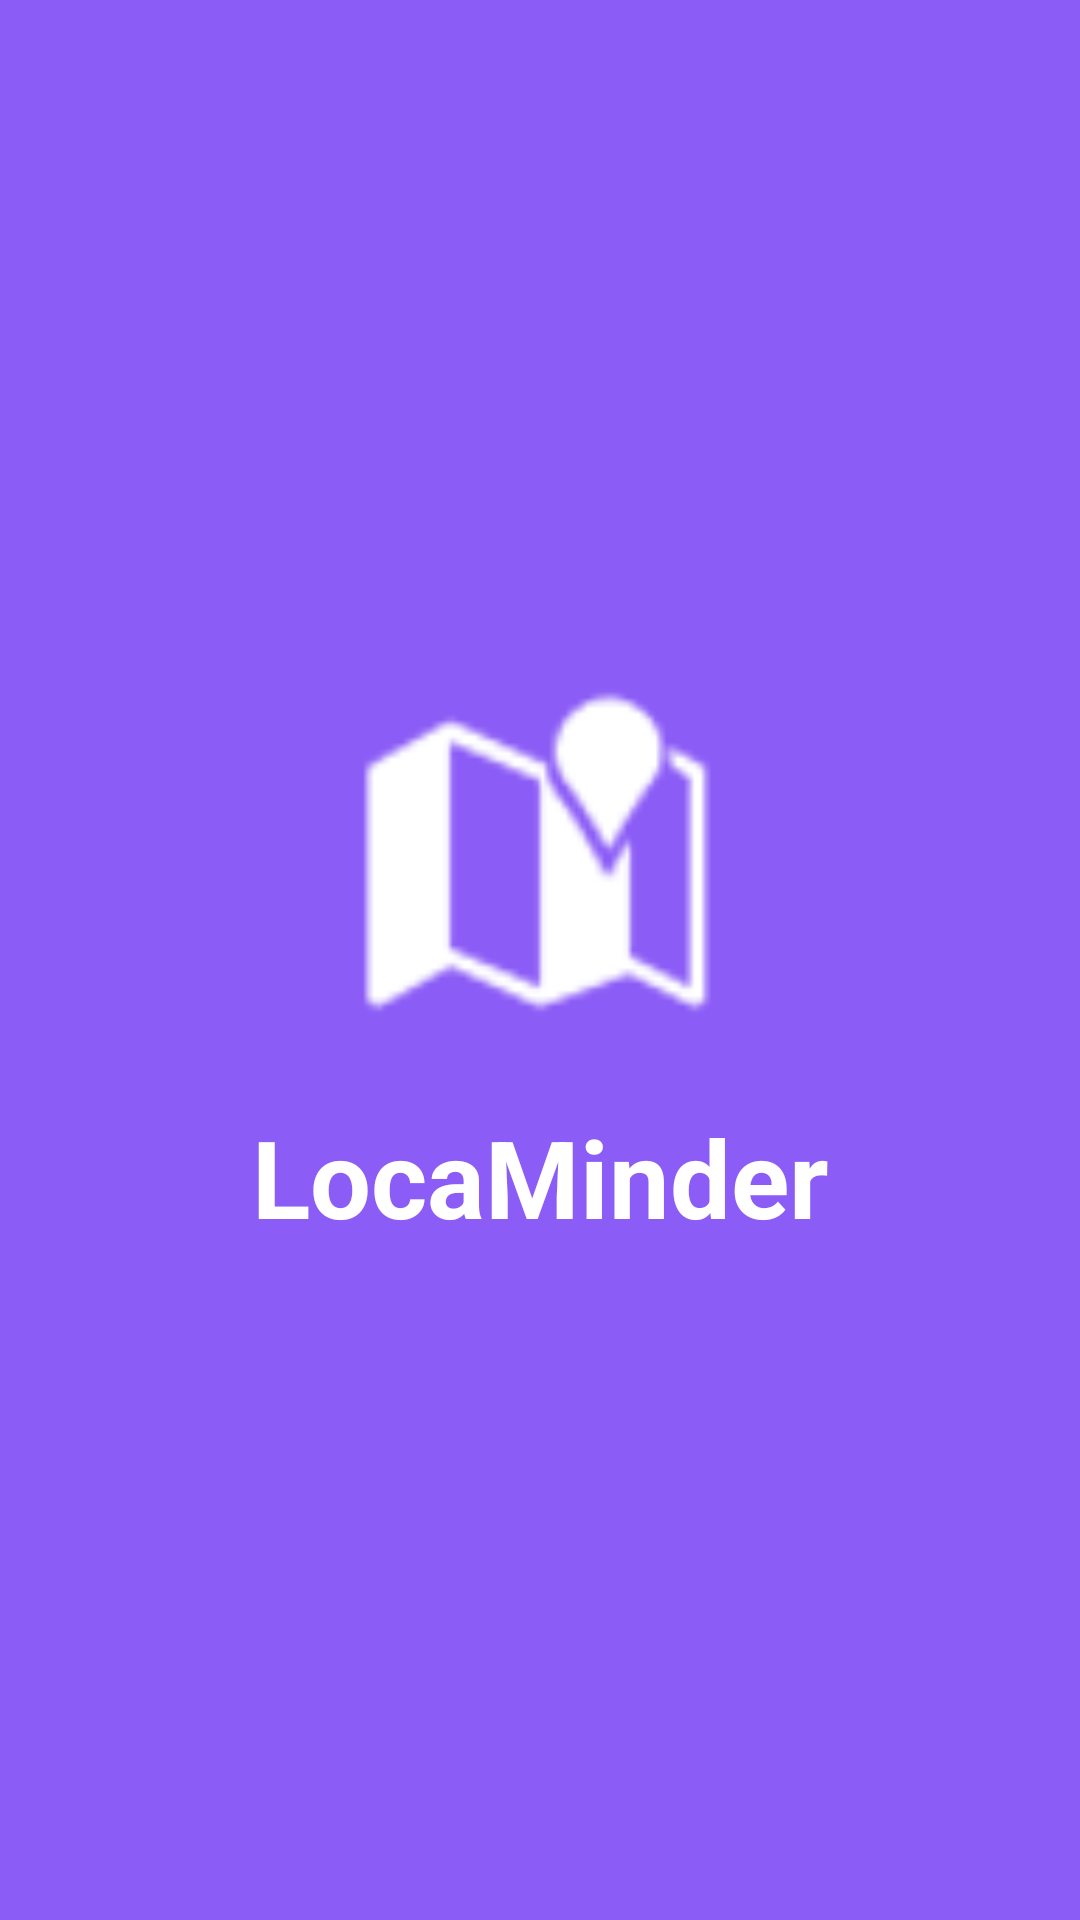

Screen size 1080px x 1920px. Icon name, then its box in pixels as BBox(x1, y1, x2, y2):
map: BBox(364, 693, 709, 1010)
